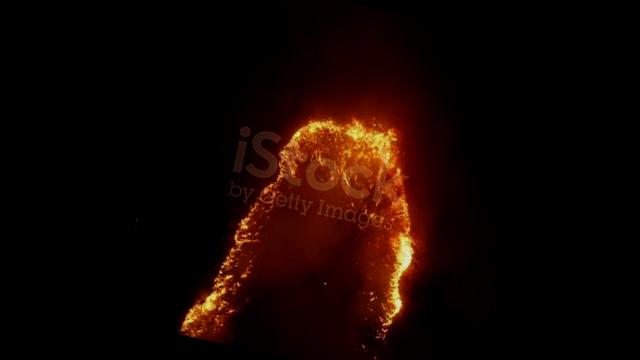fire: (193, 85, 444, 360)
